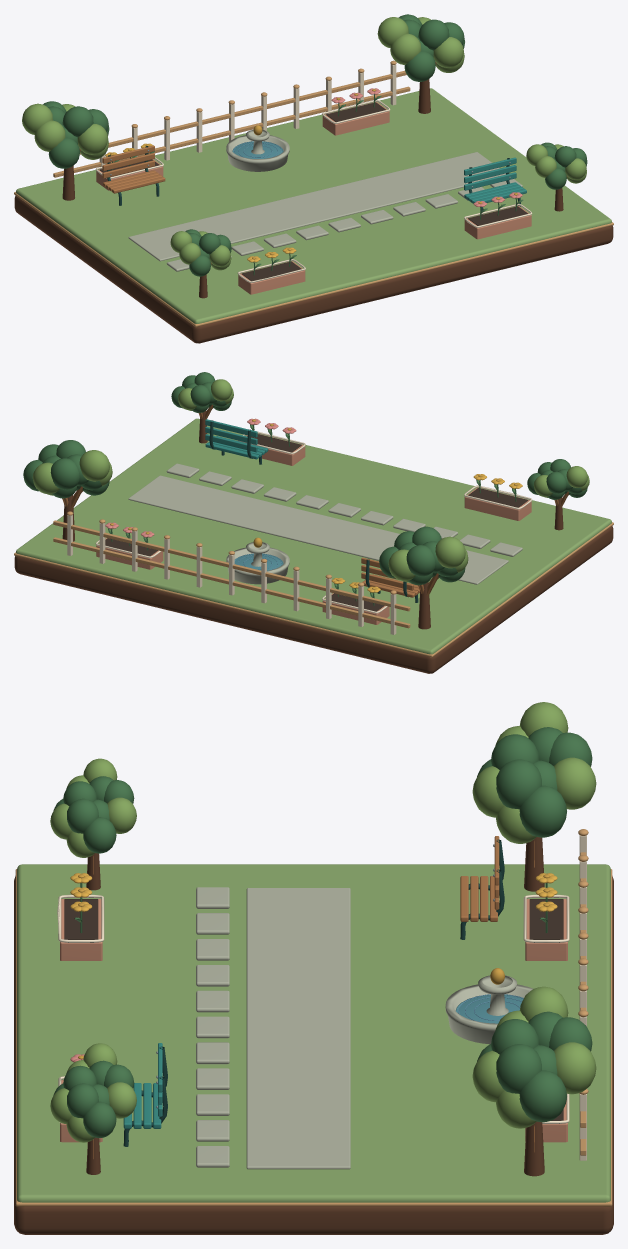
File: garden.glb
3 views of the same model, one above another, from view 1: azimuth 30°, elevation 25°; view 2: azimuth 150°, elevation 25°; view 3: azimuth 270°, elevation 25° (orthographic). The views are drawn at different scales.
Visible parts, largest first — view 1: Crafted_grass, Crafted_stone, Crafted_edge, Crafted_lightleaf, Crafted_leaf, Crafted_wood_light, Crafted_cream, Crafted_ceramic, Crafted_wood, Crafted_soil, Crafted_teal, Crafted_water; view 2: Crafted_grass, Crafted_stone, Crafted_edge, Crafted_leaf, Crafted_wood_light, Crafted_lightleaf, Crafted_cream, Crafted_ceramic, Crafted_soil, Crafted_wood, Crafted_teal, Crafted_dark (+1 smaller); view 3: Crafted_grass, Crafted_stone, Crafted_edge, Crafted_leaf, Crafted_lightleaf, Crafted_wood_light, Crafted_ceramic, Crafted_cream, Crafted_soil, Crafted_wood, Crafted_teal, Crafted_dark (+2 smaller).
Part boxes in pixels (bbox=[...]): Crafted_grass: bbox=[16, 88, 611, 323]; Crafted_stone: bbox=[128, 129, 522, 271]; Crafted_edge: bbox=[14, 79, 613, 343]; Crafted_lightleaf: bbox=[22, 17, 586, 270]; Crafted_leaf: bbox=[43, 14, 587, 276]; Crafted_wood_light: bbox=[14, 60, 613, 327]; Crafted_cream: bbox=[95, 64, 532, 283]; Crafted_ceramic: bbox=[96, 102, 531, 294]; Crafted_wood: bbox=[79, 62, 567, 264]; Crafted_soil: bbox=[100, 102, 527, 281]; Crafted_teal: bbox=[464, 157, 526, 203]; Crafted_water: bbox=[232, 141, 283, 158]; Crafted_grass: bbox=[16, 418, 611, 654]; Crafted_stone: bbox=[128, 463, 522, 584]; Crafted_edge: bbox=[14, 411, 613, 673]; Crafted_leaf: bbox=[23, 372, 587, 605]; Crafted_wood_light: bbox=[14, 511, 613, 657]; Crafted_lightleaf: bbox=[32, 379, 589, 595]; Crafted_cream: bbox=[67, 430, 532, 634]; Crafted_ceramic: bbox=[96, 434, 531, 624]; Crafted_soil: bbox=[105, 434, 528, 611]; Crafted_wood: bbox=[62, 404, 568, 597]; Crafted_teal: bbox=[205, 419, 268, 459]; Crafted_dark: bbox=[209, 420, 418, 602]; Crafted_grass: bbox=[17, 864, 610, 1202]; Crafted_stone: bbox=[196, 887, 533, 1169]; Crafted_edge: bbox=[14, 837, 613, 1234]; Crafted_leaf: bbox=[53, 727, 592, 1138]; Crafted_lightleaf: bbox=[50, 702, 596, 1142]; Crafted_wood_light: bbox=[15, 829, 612, 1206]; Crafted_ceramic: bbox=[60, 899, 567, 1142]; Crafted_cream: bbox=[57, 835, 586, 1160]; Crafted_soil: bbox=[64, 899, 563, 1120]; Crafted_wood: bbox=[93, 836, 534, 1158]; Crafted_teal: bbox=[123, 1043, 162, 1128]; Crafted_dark: bbox=[123, 839, 504, 1146].
Bounding box in the file's own units: 13.58 × 3.62 × 9.8.
